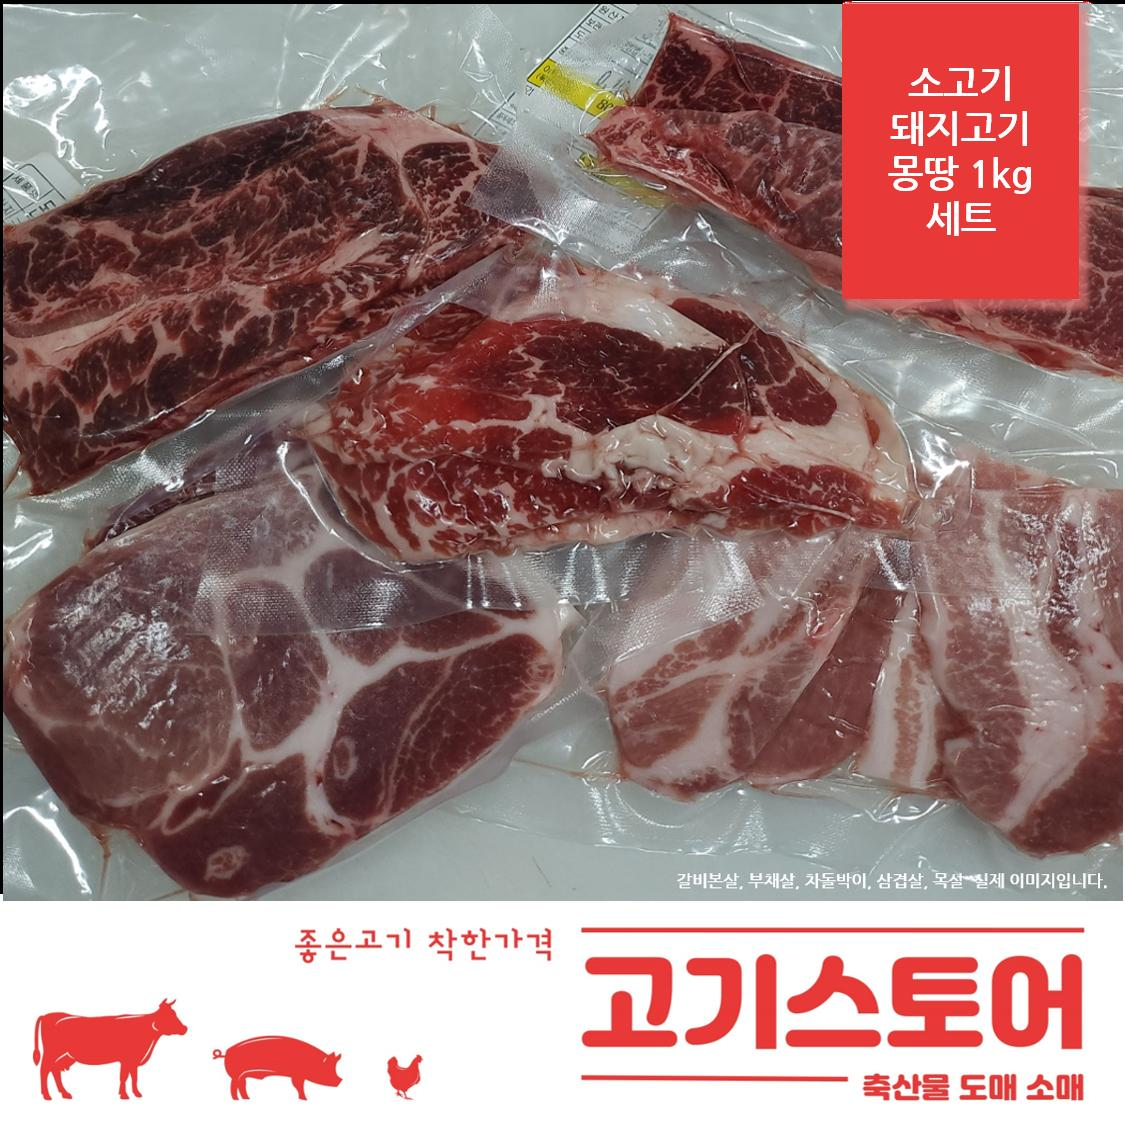beef: (67, 215, 791, 753), (72, 862, 861, 1129), (667, 543, 1125, 966)
